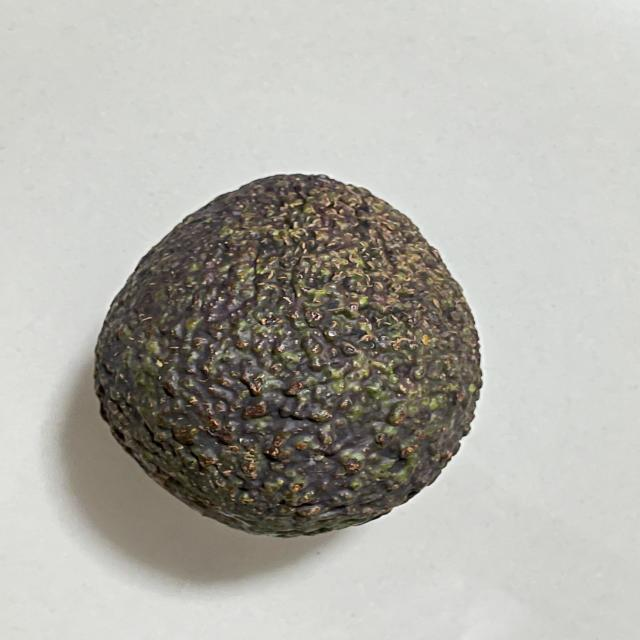Level1: (80, 164, 506, 547)
